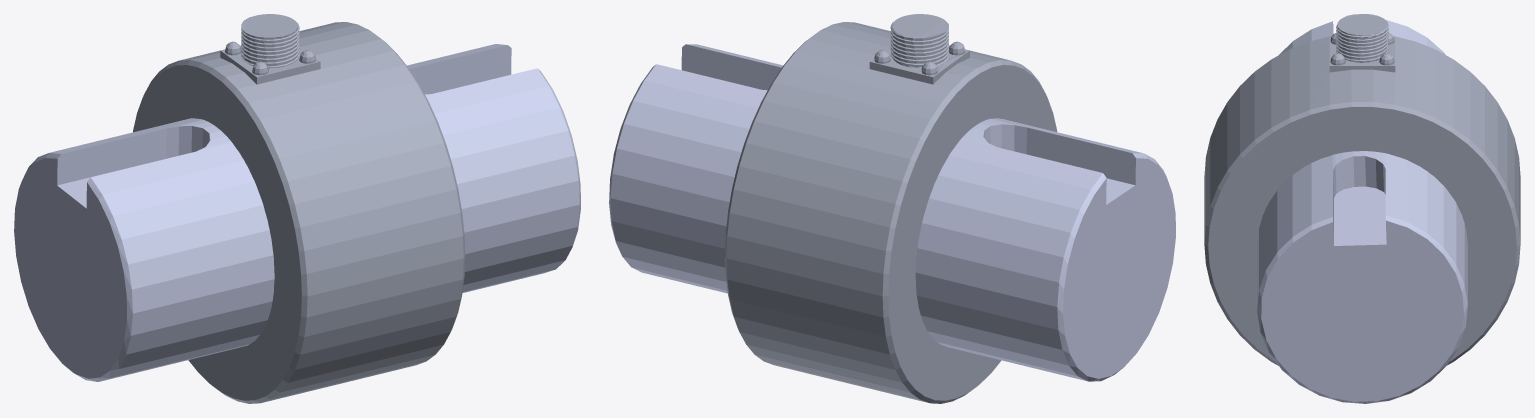
Rendered from YDNS 500-1000Nm.fbx.
3 views of the same model, side by side, from view 1: azimuth 30°, elevation 25°; view 2: azimuth 150°, elevation 25°; view 3: azimuth 270°, elevation 25° (orthographic). The views are drawn at different scales.
Visible parts, largest first — view 1: YDNS_50_100KM_Shaft, YDNS_50_100KM_Body; view 2: YDNS_50_100KM_Shaft, YDNS_50_100KM_Body; view 3: YDNS_50_100KM_Body, YDNS_50_100KM_Shaft.
Part boxes in pixels (left/top/right/bottom): YDNS_50_100KM_Shaft: left=14, top=44, right=580, bottom=381; YDNS_50_100KM_Body: left=133, top=14, right=465, bottom=403; YDNS_50_100KM_Shaft: left=609, top=44, right=1175, bottom=381; YDNS_50_100KM_Body: left=725, top=14, right=1057, bottom=403; YDNS_50_100KM_Body: left=1204, top=14, right=1520, bottom=365; YDNS_50_100KM_Shaft: left=1257, top=20, right=1467, bottom=403.
Size of the model in its own units: 125 by 92.9 by 84.
